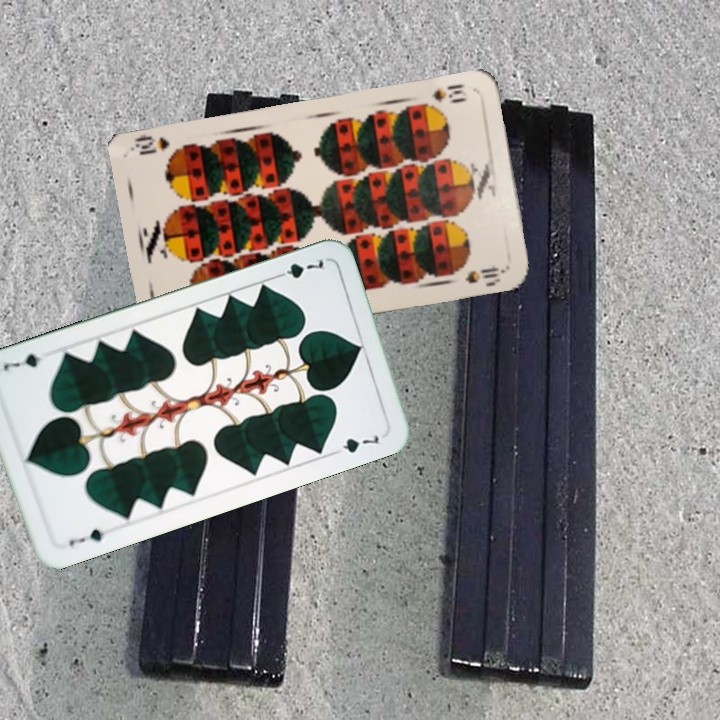G7: (270, 254, 327, 282), (65, 525, 115, 549)
S10: (427, 80, 470, 106)
